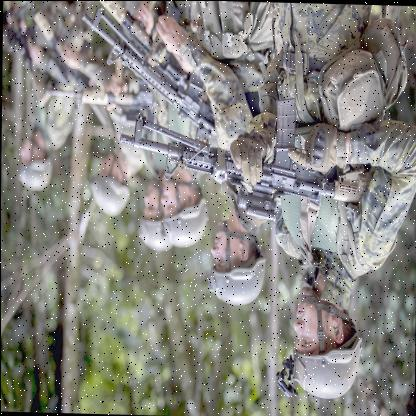rifle: (115, 88, 366, 228), (80, 0, 217, 140)
